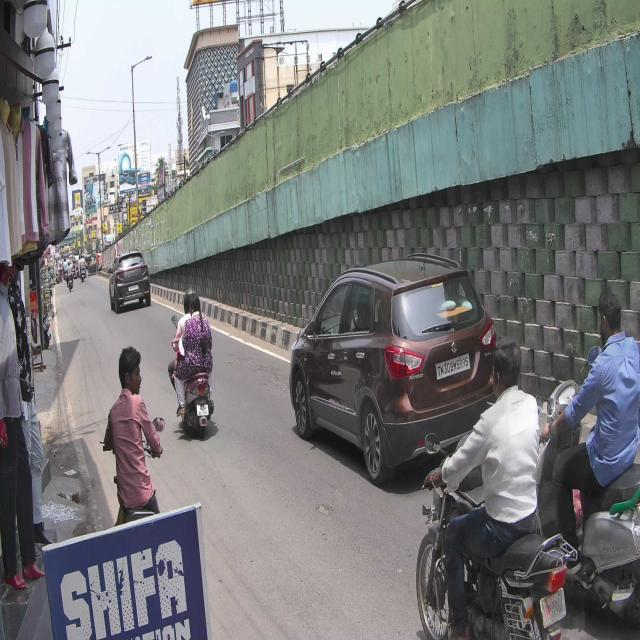double_rider: (166, 288, 218, 440)
single_rider: (412, 334, 570, 640)
